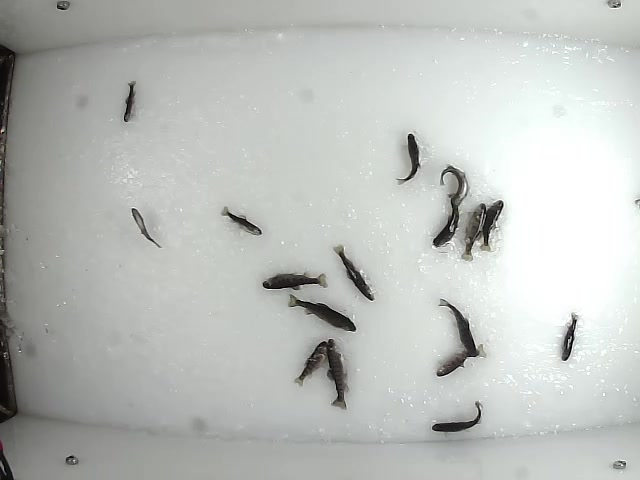fish: (287, 292, 359, 333), (332, 243, 376, 304), (439, 294, 477, 359), (291, 339, 332, 389), (434, 342, 489, 378), (459, 201, 490, 264), (430, 399, 484, 434), (326, 337, 350, 412), (476, 199, 505, 253), (218, 204, 264, 238), (431, 194, 459, 249), (260, 269, 329, 291), (129, 208, 164, 250), (394, 133, 423, 183), (559, 310, 581, 364), (439, 164, 468, 204), (120, 77, 137, 124)
